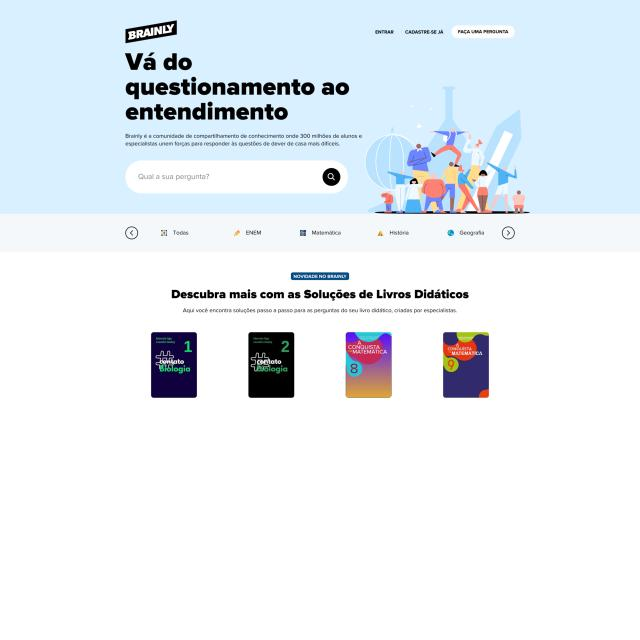input: (124, 160, 347, 194)
logo: (124, 19, 178, 44)
navigation: (0, 212, 639, 250), (372, 24, 514, 40)
